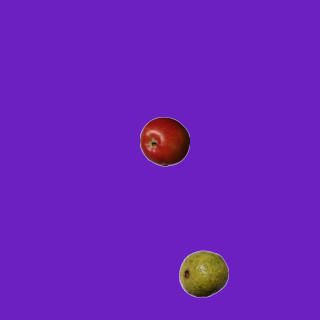Apple Braeburn: (139, 116, 189, 166)
Guava: (178, 248, 228, 298)
